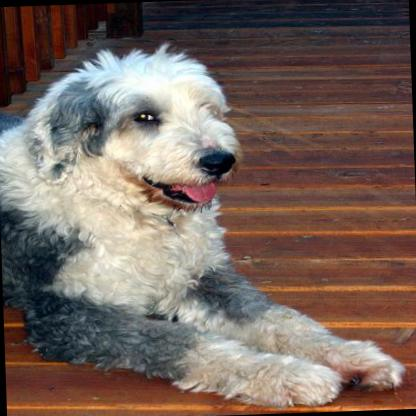Old_English_sheepdog: (0, 41, 395, 415)
